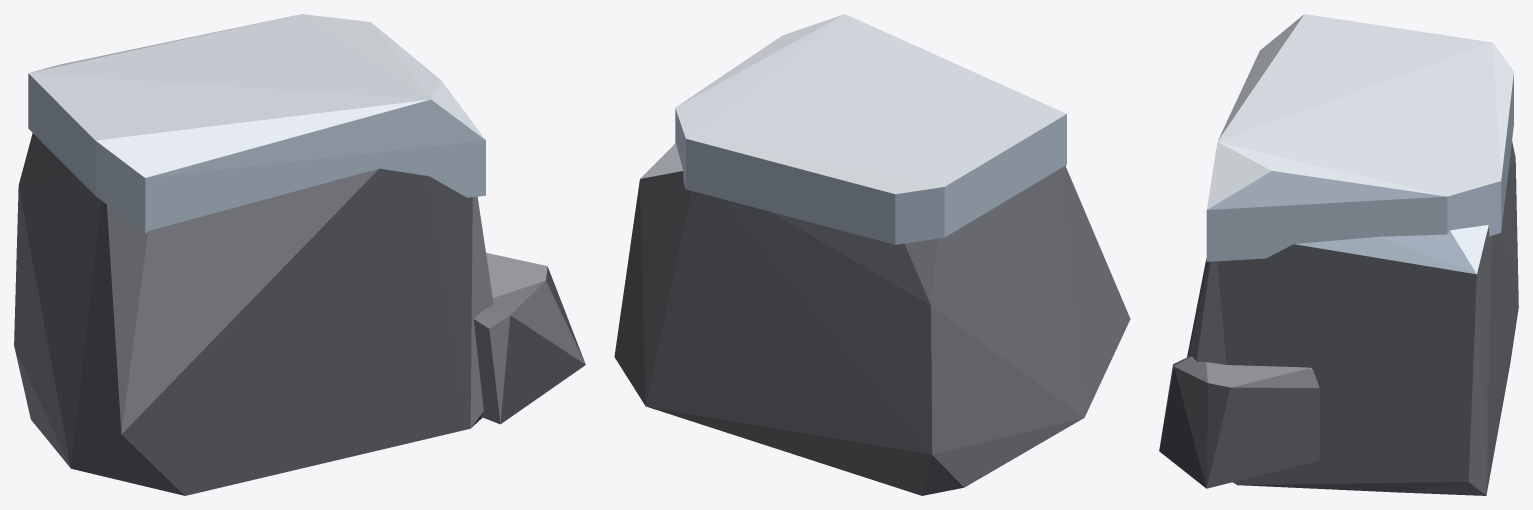
Rendered from rock_snow_a.fbx.
3 renders of one model, left to right at view 1: azimuth 30°, elevation 25°; view 2: azimuth 150°, elevation 25°; view 3: azimuth 270°, elevation 25°, orthographic. The views are drawn at different scales.
Visible parts, largest first — view 1: rock_snow_a; view 2: rock_snow_a; view 3: rock_snow_a.
Boxes of the visible parts, box(x1,y1,x2,y2) form: rock_snow_a: box(14, 14, 585, 495); rock_snow_a: box(614, 14, 1130, 495); rock_snow_a: box(1159, 14, 1518, 495).
Bounding box in the file's own units: 2.09 × 1.54 × 1.51.
